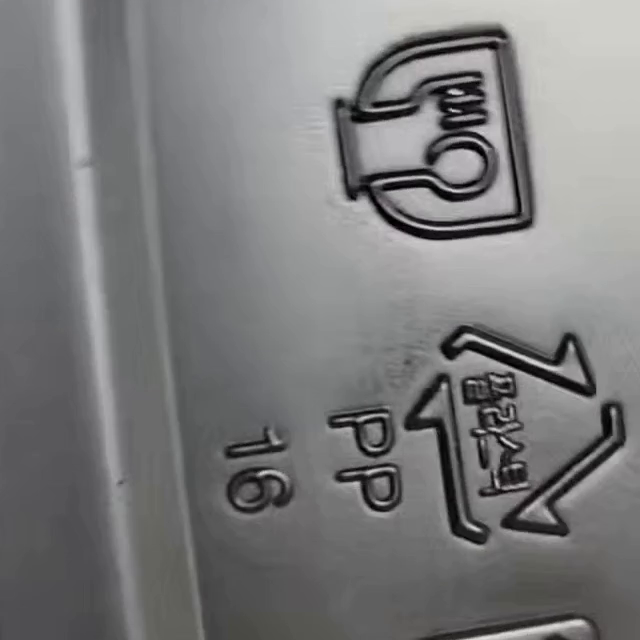Plastic: (403, 323, 626, 547)
